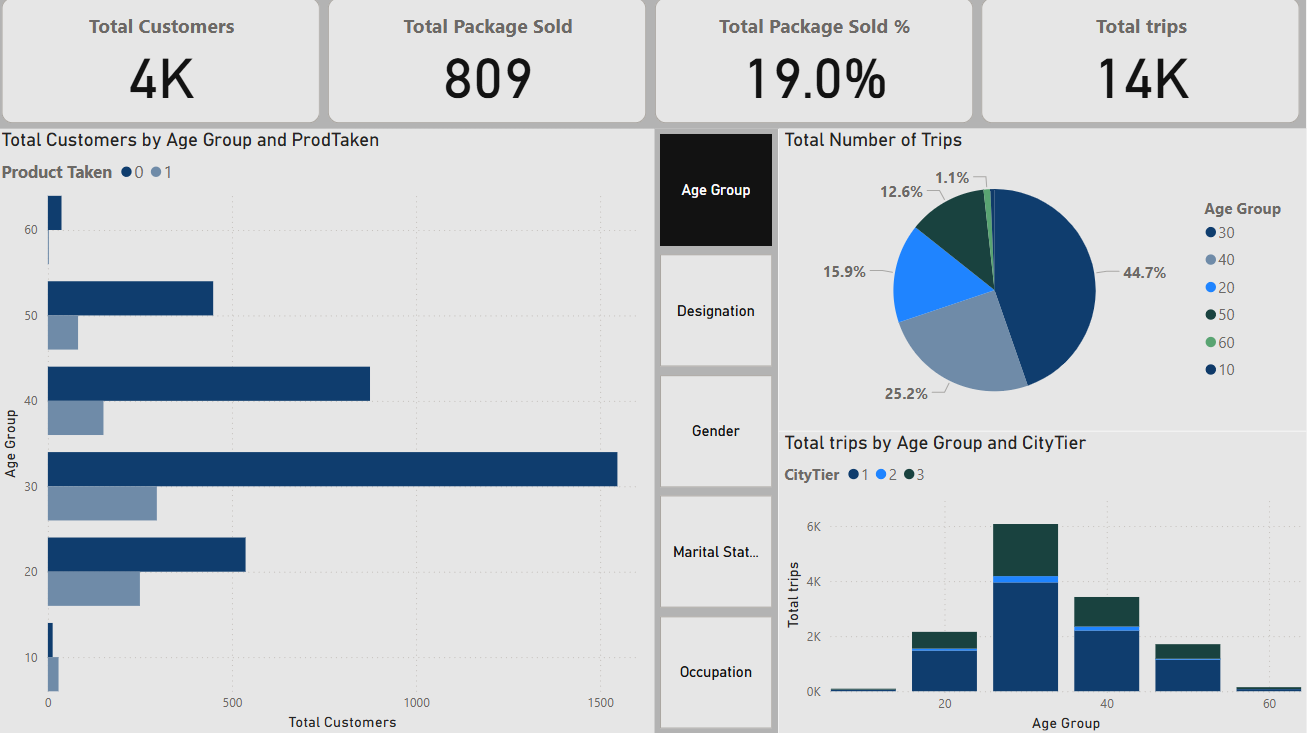

Layout of this report page (visuals, bound fields, positions):
{"tool":"powerbi","page":{"name":"Customer Demographics","canvas":[1280,720],"ordinal":0},"visuals":[{"type":"clusteredBarChart","fields":{"Category":["tour_package.Age (bins)"],"Series":["tour_package.ProdTaken"],"Y":["_Measures.Total Customers"]},"box":[0,132.8,639.6,587.8],"z":0},{"type":"advancedSlicerVisual","fields":{"Values":["Customer Demographics.Customer Demographics"]},"box":[639.6,132.8,119.8,587.8],"z":1000},{"type":"cardVisual","fields":{"Data":["_Measures.Total Customers","_Measures.Total Package Sold","_Measures.Total Package Sold %","_Measures.Total trips"]},"box":[0,0,1271.1,132.8],"z":2000},{"type":"pieChart","title":"Total Number of Trips ","fields":{"Category":["tour_package.Age (bins)"],"Y":["Sum(tour_package.NumberOfTrips)"]},"box":[759.4,132.8,511.7,293.1],"z":3000},{"type":"columnChart","fields":{"Category":["tour_package.Age (bins)"],"Series":["tour_package.CityTier"],"Y":["_Measures.Total trips"]},"box":[759.4,425.9,511.7,294.7],"z":4000}]}

Visuals, with their boxes in screenshot pixels (x1, y1, x2, y2), scaled from the page's 1280x720 canvas onto the 1314x733 screenshot:
clusteredBarChart - tour_package.Age (bins) x tour_package.ProdTaken: 0,135,657,732
advancedSlicerVisual - Customer Demographics.Customer Demographics: 657,135,780,732
cardVisual - _Measures.Total Customers x _Measures.Total Package Sold: 0,0,1305,135
"Total Number of Trips " pieChart: 780,135,1305,434
columnChart - tour_package.Age (bins) x tour_package.CityTier: 780,434,1305,732
